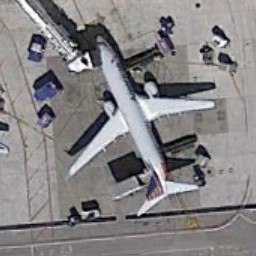Airplane: (56, 24, 226, 230)
